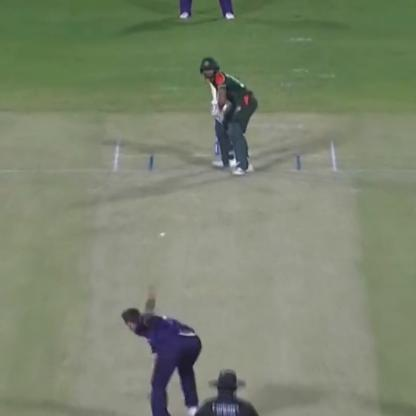ball: (156, 223, 168, 244)
bat: (192, 48, 228, 120)
pitch: (81, 138, 378, 416)
